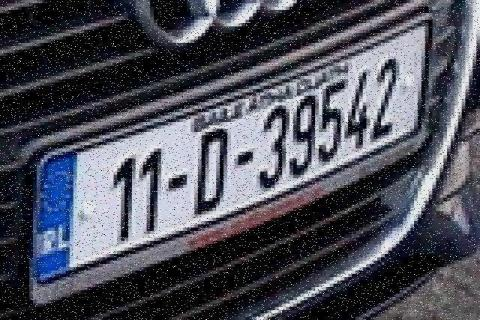LicensePlate: (16, 4, 454, 296)
